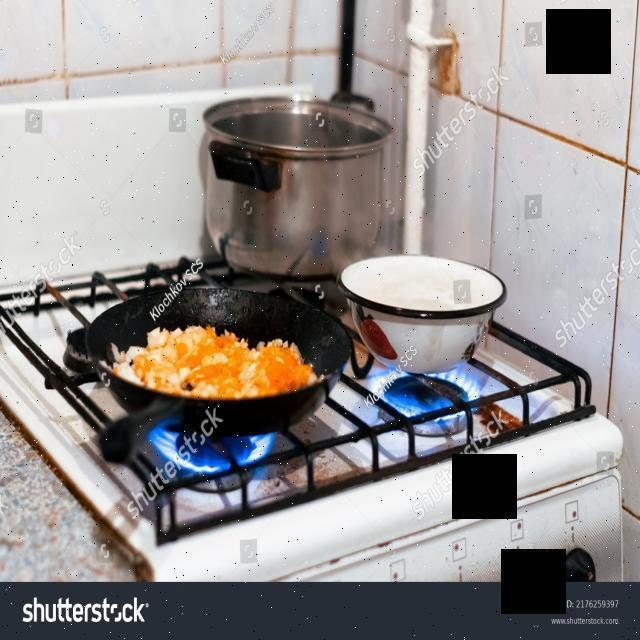Flame: (150, 422, 293, 482), (382, 373, 482, 420)
Pan: (56, 274, 352, 464), (340, 252, 507, 381)
